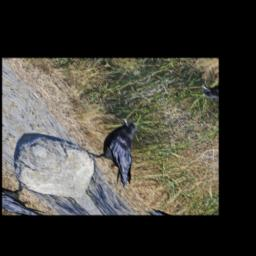Crow: (70, 114, 176, 192)
